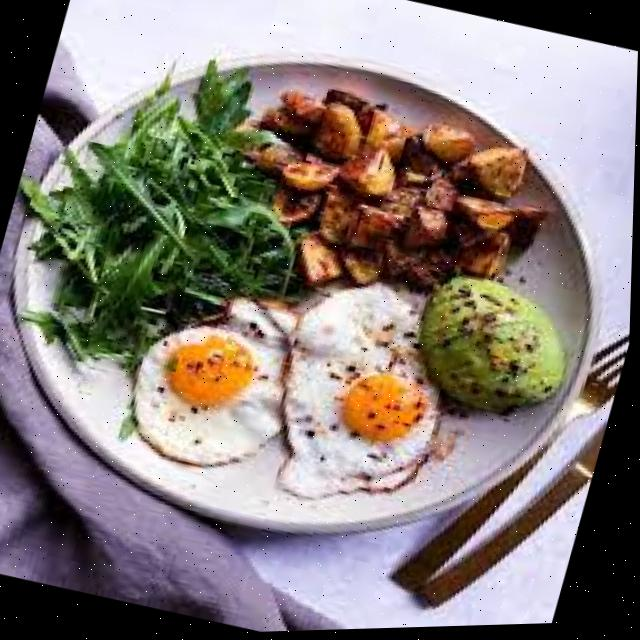Egg: (282, 288, 441, 499), (136, 327, 288, 467)
